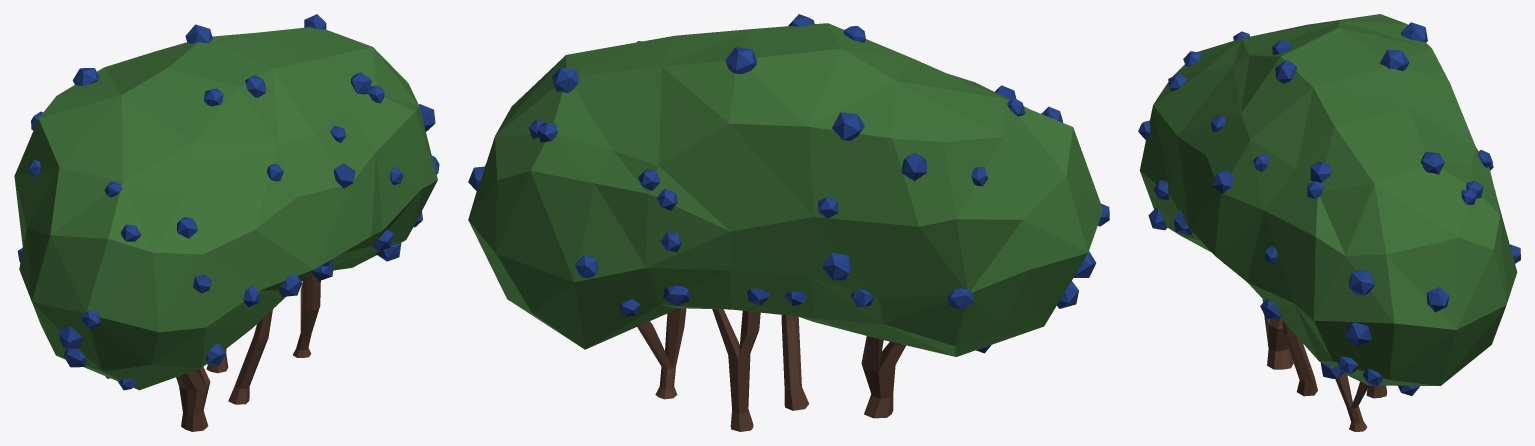
File: Berry.fbx
3 views of the same model, side by side, from view 1: azimuth 30°, elevation 25°; view 2: azimuth 150°, elevation 25°; view 3: azimuth 270°, elevation 25° (orthographic). The views are drawn at different scales.
Visible parts, largest first — view 1: Berry; view 2: Berry; view 3: Berry.
Boxes of the visible parts, x1,y1,x2,y2 form: Berry: (14,14,439,431); Berry: (468,14,1109,431); Berry: (1138,14,1520,431).
Size of the model in its own units: 181 by 128 by 130.
